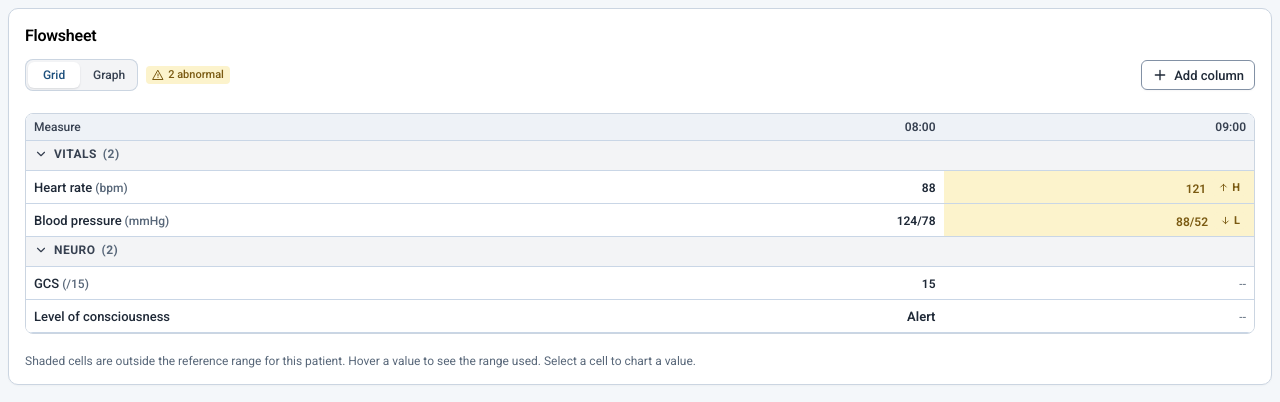
Test: Flowsheet › adds a column
Click the button "Add column". click: (1198, 75)
box: [1141,60,1255,90]
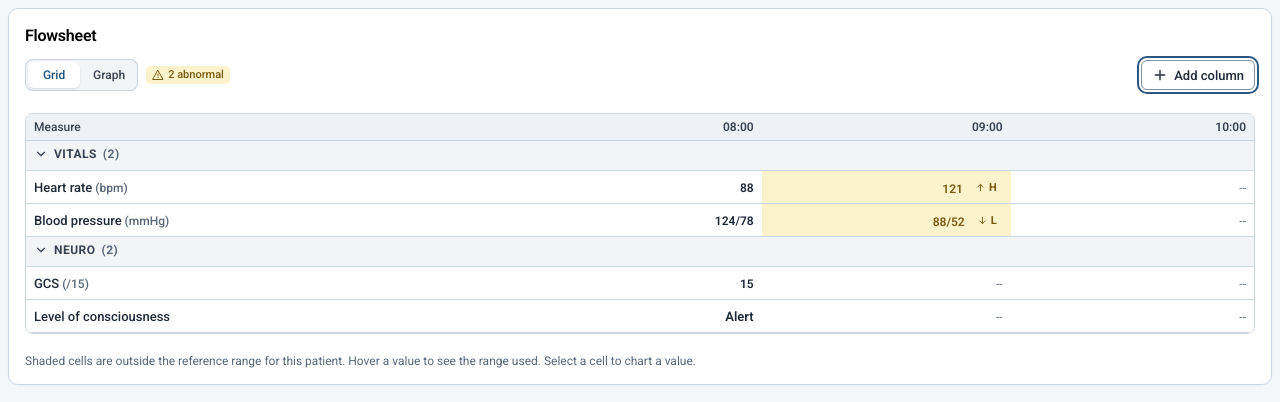
Expected: the column heading named "10:00 new column" is shown, [1011,114,1254,140]
